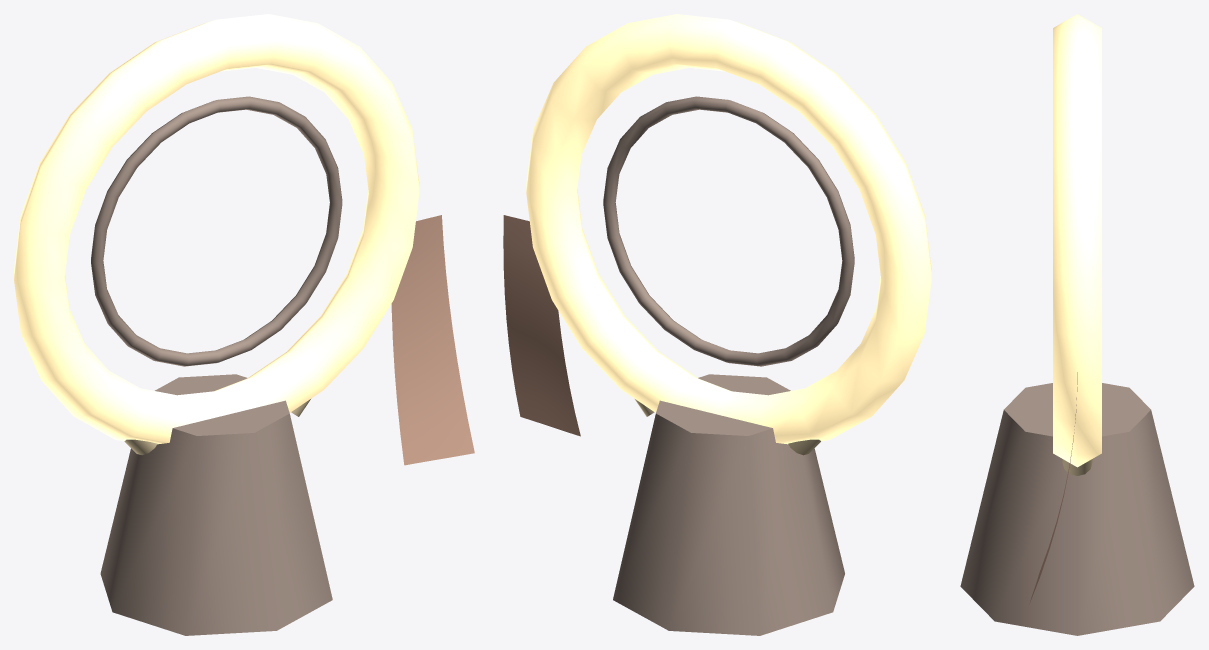
File: prop-grapple.glb
3 renders of one model, left to right at view 1: azimuth 30°, elevation 25°; view 2: azimuth 150°, elevation 25°; view 3: azimuth 270°, elevation 25°, orthographic. The views are drawn at different scales.
Visible parts, largest first — view 1: grapple; view 2: grapple; view 3: grapple.
Boxes of the visible parts, <box> form: grapple: <box>14,14,474,635</box>; grapple: <box>503,14,931,635</box>; grapple: <box>960,14,1194,635</box>.
Bounding box in the file's own units: 1.13 × 1.4 × 0.54.
